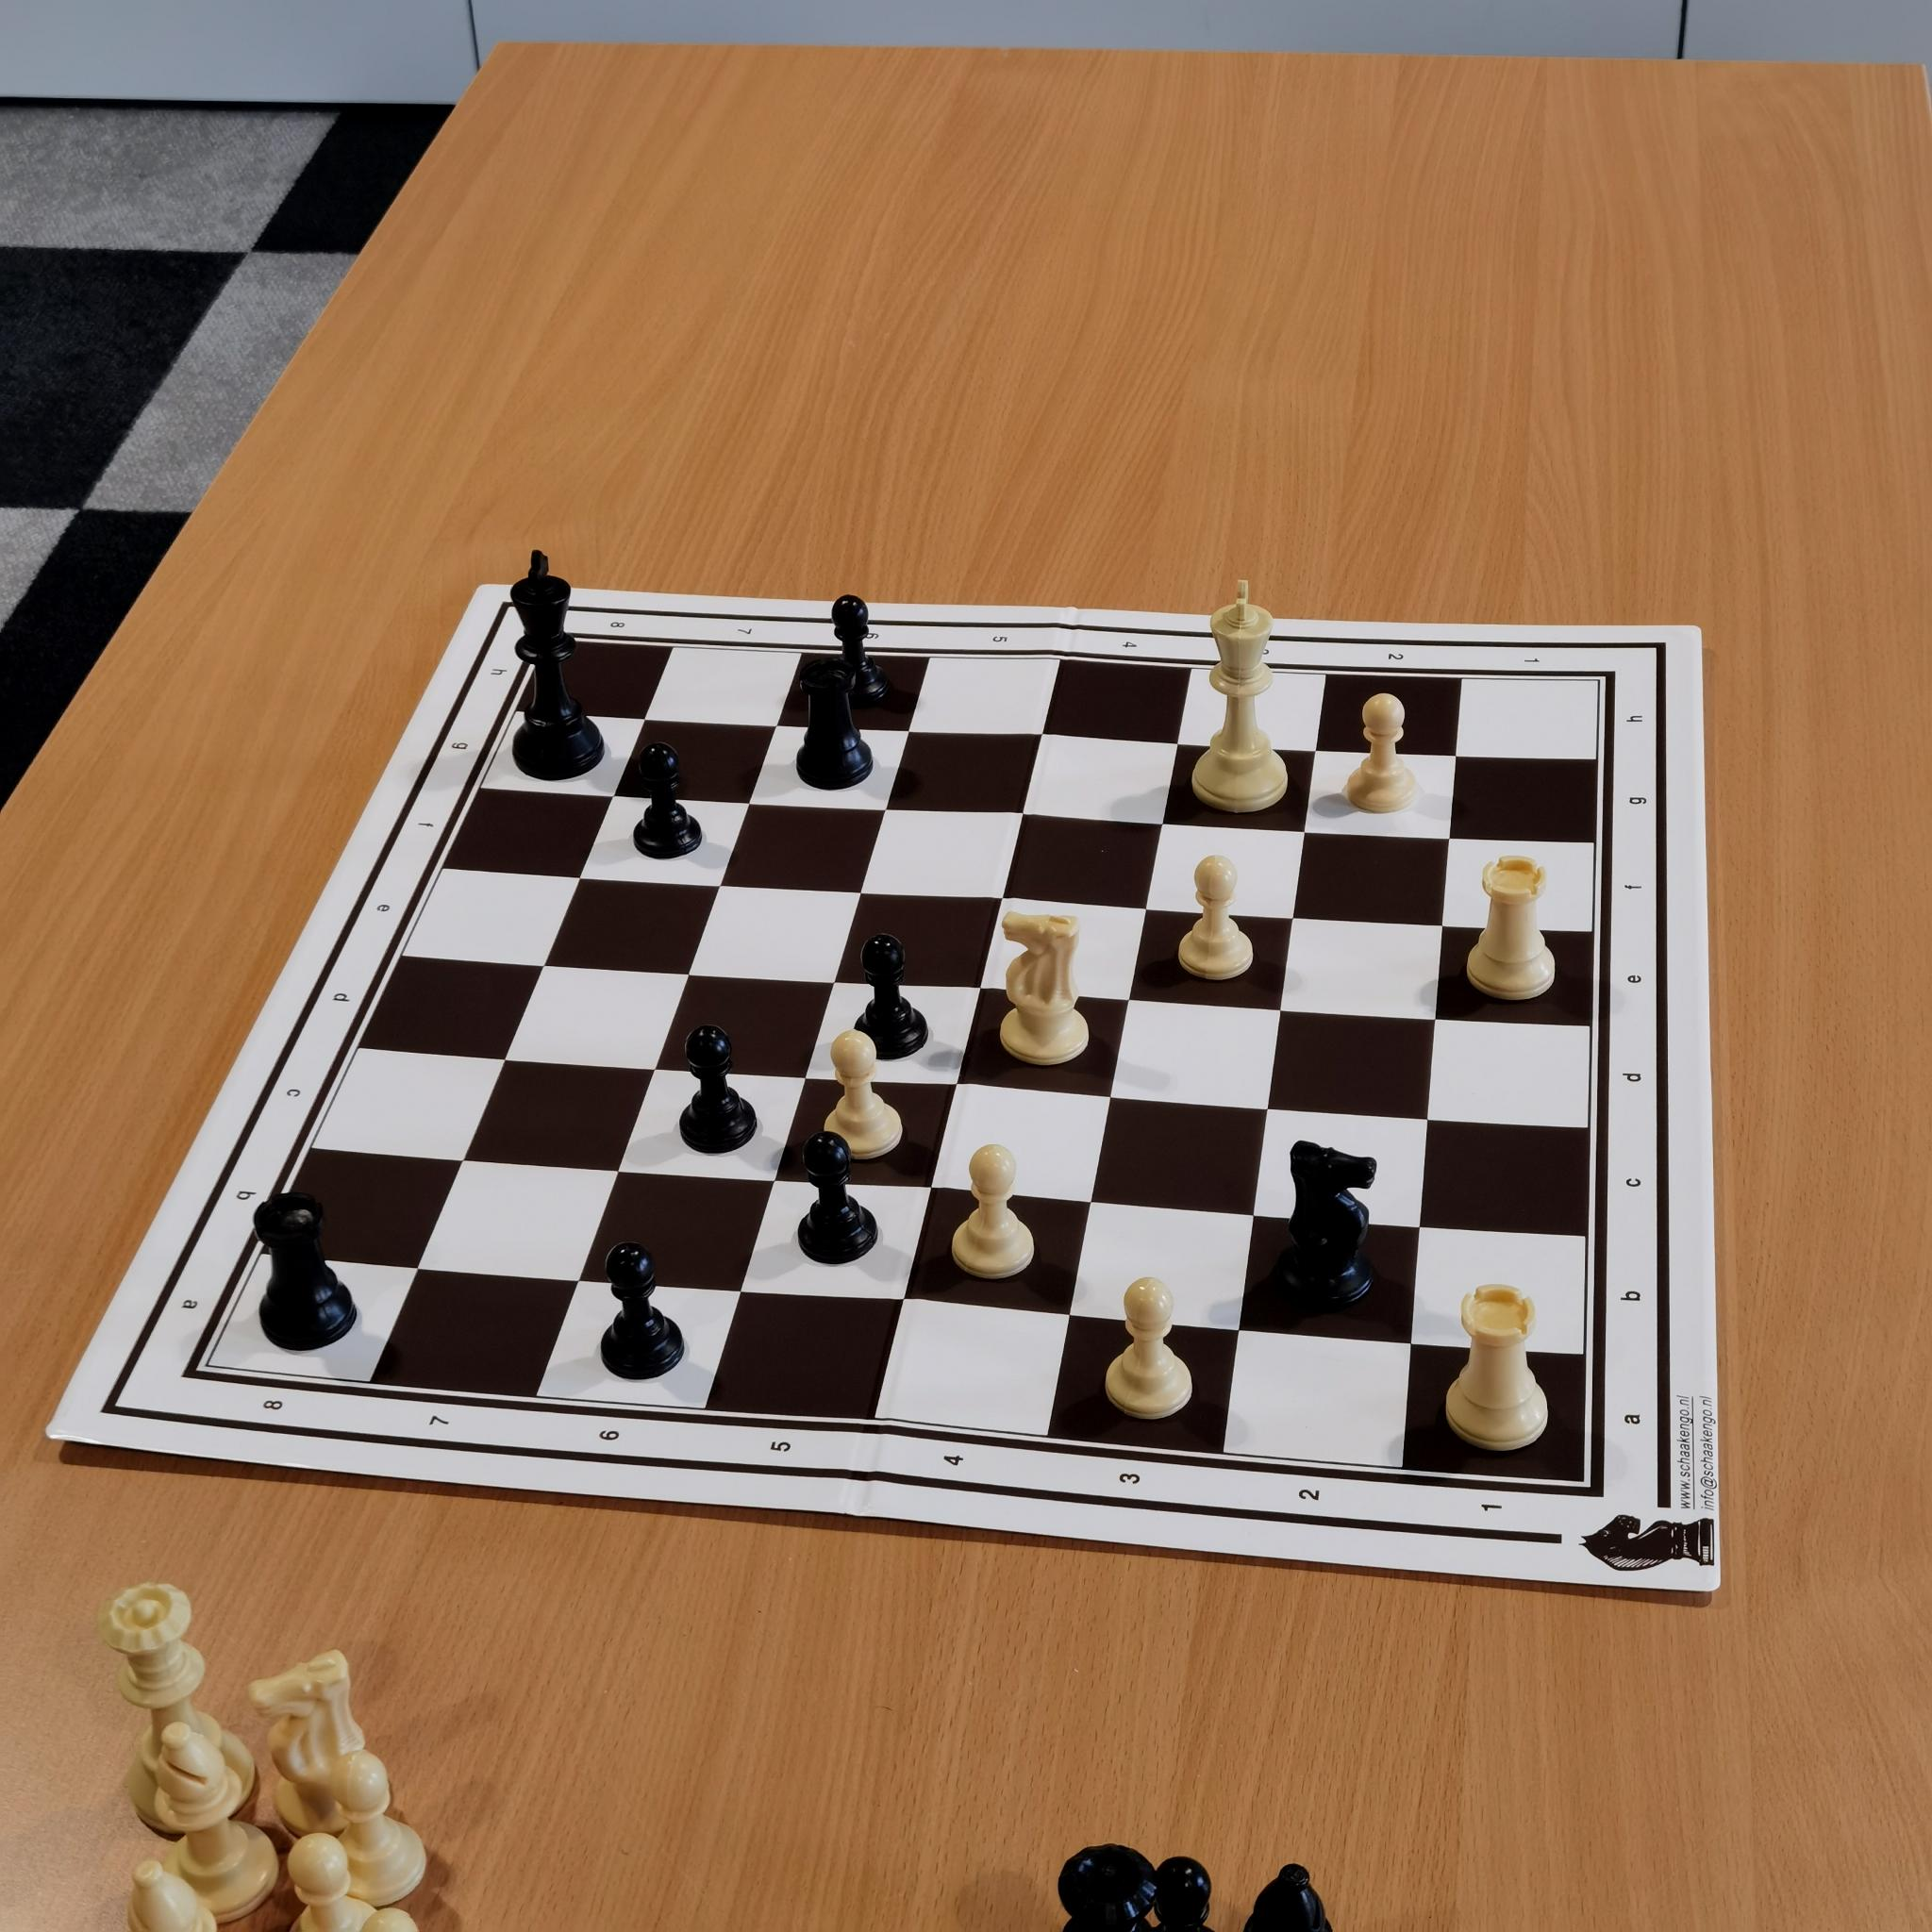corners: (180, 1332, 244, 1392), (1568, 656, 1624, 706), (1559, 1453, 1606, 1504), (529, 617, 573, 658)
eight: (255, 1375, 301, 1430), (600, 610, 637, 644)
one: (1472, 1484, 1516, 1530), (1511, 639, 1548, 690)
